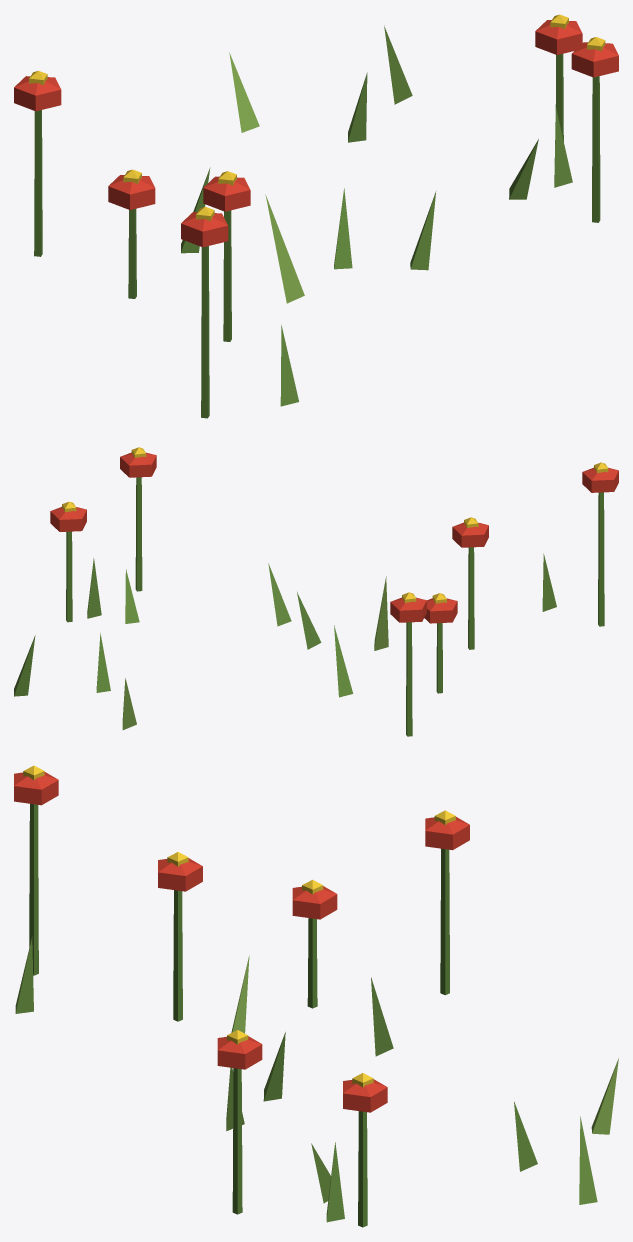
File: cover_flowers_red.glb
3 renders of one model, top to bottom at view 1: azimuth 30°, elevation 25°; view 2: azimuth 150°, elevation 25°; view 3: azimuth 270°, elevation 25°, orthographic. The views are drawn at different scales.
Parts seen in each view (by area): view 1: scatter_flowers_red; view 2: scatter_flowers_red; view 3: scatter_flowers_red.
Part boxes in pixels (bbox=[...]): scatter_flowers_red: bbox=[14, 14, 618, 418]; scatter_flowers_red: bbox=[14, 447, 618, 736]; scatter_flowers_red: bbox=[14, 765, 618, 1227].
Size of the model in its own units: 1.57 by 0.5726 by 1.48.
